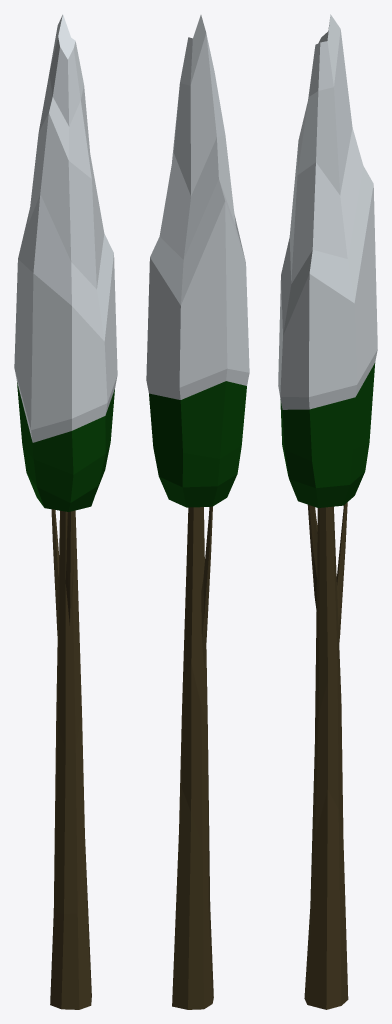
The model's file is arbol.obj.
3 views of the same model, side by side, from view 1: azimuth 30°, elevation 25°; view 2: azimuth 210°, elevation 25°; view 3: azimuth 270°, elevation 25° (orthographic).
Parts seen in each view (by area): view 1: arbol.006; view 2: arbol.006; view 3: arbol.006.
Boxes of the visible parts, <box> form: arbol.006: <box>14,14,117,1009</box>; arbol.006: <box>146,15,249,1009</box>; arbol.006: <box>278,14,377,1009</box>.
Size of the model in its own units: 3.26 by 36.24 by 3.33.
